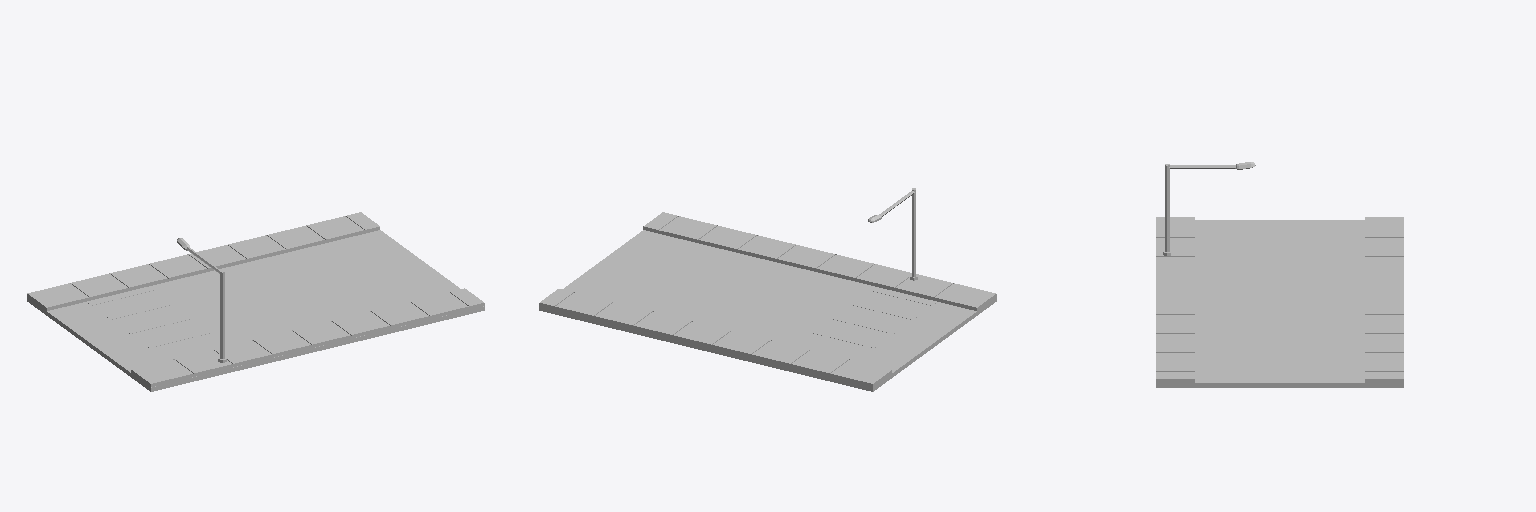
The picture shows the model from 3 angles: view 1: azimuth 30°, elevation 25°; view 2: azimuth 150°, elevation 25°; view 3: azimuth 270°, elevation 25°; orthographic projection.
Visible parts, largest first — view 1: Объект_Куб, Объект_Куб.1-Ноль_объект, Объект_Куб.1-Ноль_объект_1; view 2: Объект_Куб, Объект_Куб.1-Ноль_объект_1, Объект_Куб.1-Ноль_объект; view 3: Объект_Куб, Объект_Куб.1-Ноль_объект_1, Объект_Куб.1-Ноль_объект.
Boxes of the visible parts, x1=… form: Объект_Куб: x1=27, y1=230, x2=484, y2=391; Объект_Куб.1-Ноль_объект: x1=131, y1=288, x2=484, y2=386; Объект_Куб.1-Ноль_объект_1: x1=27, y1=212, x2=379, y2=310; Объект_Куб: x1=539, y1=230, x2=996, y2=391; Объект_Куб.1-Ноль_объект_1: x1=539, y1=289, x2=891, y2=387; Объект_Куб.1-Ноль_объект: x1=643, y1=212, x2=996, y2=311; Объект_Куб: x1=1156, y1=220, x2=1403, y2=387; Объект_Куб.1-Ноль_объект_1: x1=1365, y1=217, x2=1403, y2=383; Объект_Куб.1-Ноль_объект: x1=1156, y1=217, x2=1194, y2=383.
Size of the model in its own units: 659 by 189 by 423.